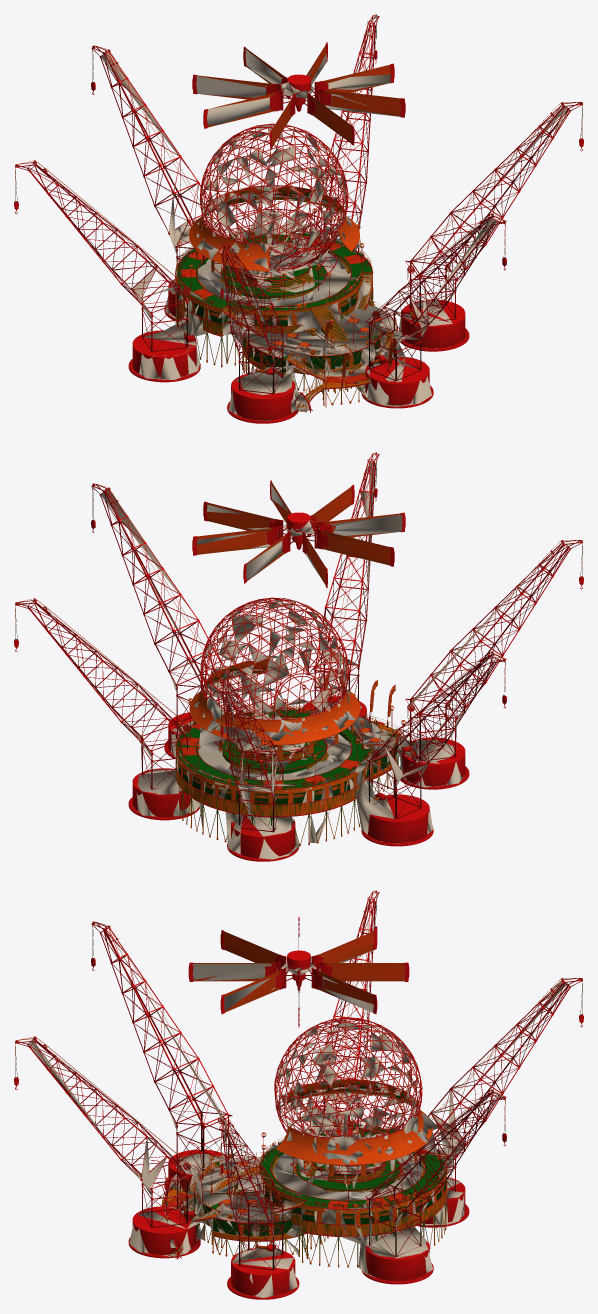
Rendered from GreatLoom.glb.
3 views of the same model, one above another, from view 1: azimuth 30°, elevation 25°; view 2: azimuth 150°, elevation 25°; view 3: azimuth 270°, elevation 25° (orthographic).
Visible parts, largest first — view 1: L0, L2, L1; view 2: L0, L2, L1; view 3: L0, L2, L1.
Boxes of the visible parts, x1,y1,x2,y2 form: L0: (14, 14, 583, 423); L2: (54, 15, 567, 420); L1: (15, 30, 582, 420); L0: (14, 452, 583, 861); L2: (16, 462, 581, 859); L1: (15, 470, 583, 858); L0: (14, 890, 583, 1299); L2: (28, 904, 567, 1297); L1: (15, 891, 583, 1297).
Bounding box in the file's own units: 94.41 × 49.92 × 94.65.
